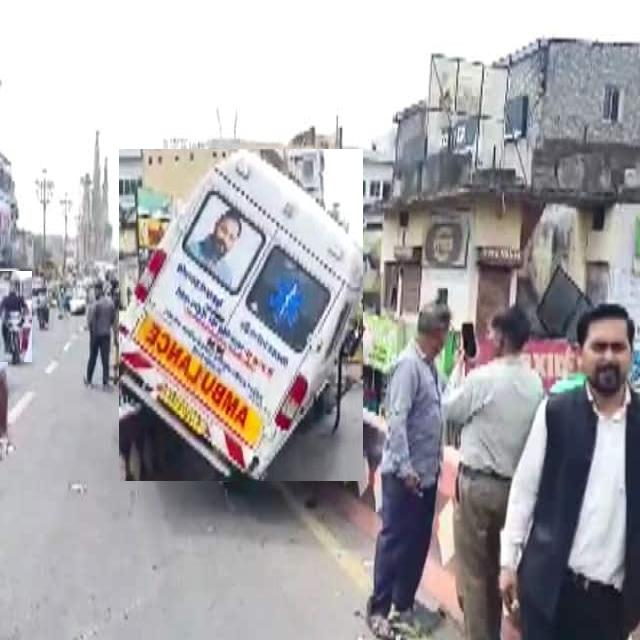accident: (120, 150, 363, 481)
motorcycle: (0, 271, 32, 362), (36, 287, 48, 329)
